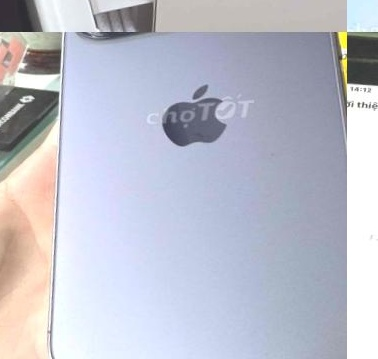scratch: (347, 33, 378, 74), (359, 32, 378, 57)
